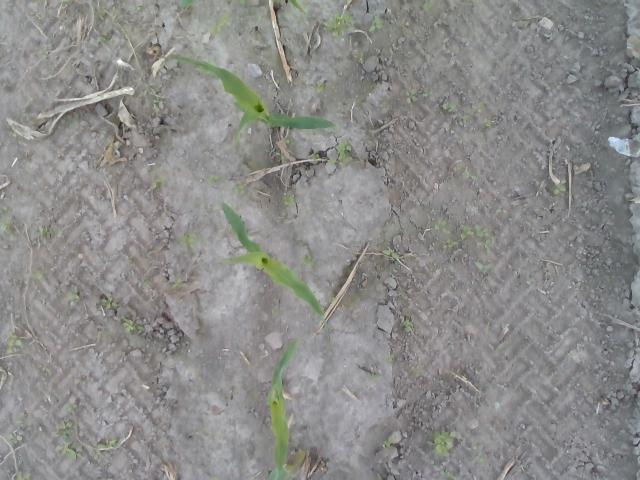Maize: (167, 52, 335, 146), (219, 199, 327, 323), (267, 340, 299, 480), (288, 0, 310, 17)
Weeds: (322, 7, 358, 40), (208, 9, 235, 38), (432, 429, 459, 455), (59, 441, 85, 464), (462, 222, 490, 241), (1, 332, 24, 354), (175, 232, 202, 250), (176, 0, 200, 17), (0, 216, 16, 240), (120, 316, 144, 332), (338, 138, 352, 165), (96, 296, 120, 310), (57, 420, 73, 441), (368, 14, 386, 32), (32, 224, 54, 238), (15, 415, 33, 432), (352, 47, 369, 64), (312, 80, 330, 95), (432, 220, 451, 234), (96, 436, 118, 448), (484, 236, 497, 256), (404, 88, 420, 104), (64, 114, 80, 130), (419, 0, 434, 17), (442, 238, 464, 249), (553, 177, 568, 193), (472, 260, 492, 272), (95, 32, 112, 46), (432, 463, 449, 477), (298, 253, 316, 266), (152, 176, 166, 192), (233, 180, 249, 194), (384, 248, 401, 261), (6, 432, 19, 448), (441, 102, 457, 114), (93, 8, 105, 24), (463, 170, 479, 182), (32, 270, 49, 281), (14, 470, 32, 480), (282, 192, 294, 206), (368, 370, 384, 380), (403, 319, 415, 332), (382, 434, 393, 448), (40, 47, 50, 62), (68, 288, 80, 300), (207, 176, 219, 188), (63, 403, 77, 412), (171, 278, 183, 288), (420, 87, 432, 97), (414, 367, 426, 377), (239, 0, 249, 12), (64, 366, 74, 378), (270, 305, 280, 317), (39, 362, 50, 372), (472, 103, 484, 112), (151, 94, 161, 104), (376, 103, 386, 113), (285, 136, 296, 145), (385, 352, 396, 361), (483, 118, 492, 128), (93, 452, 103, 460), (136, 4, 145, 12), (310, 153, 320, 160), (126, 256, 134, 264), (479, 456, 487, 464), (327, 158, 336, 165), (207, 475, 218, 480), (274, 154, 282, 160)
